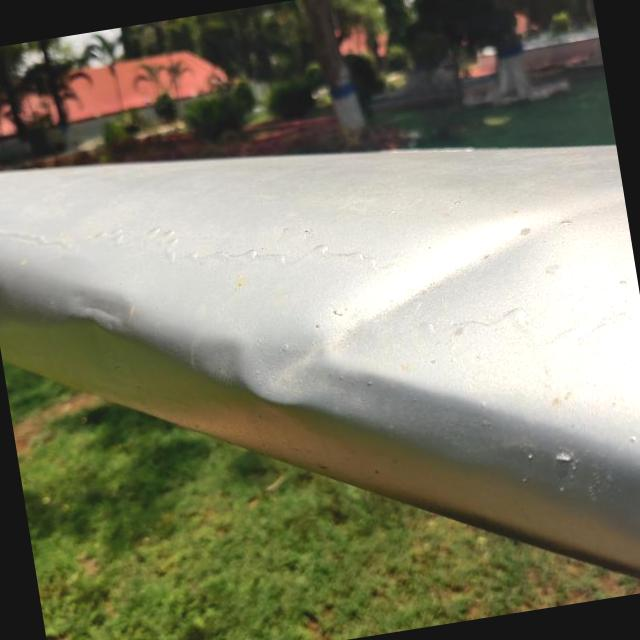dent: (197, 200, 560, 452), (52, 272, 142, 344)
